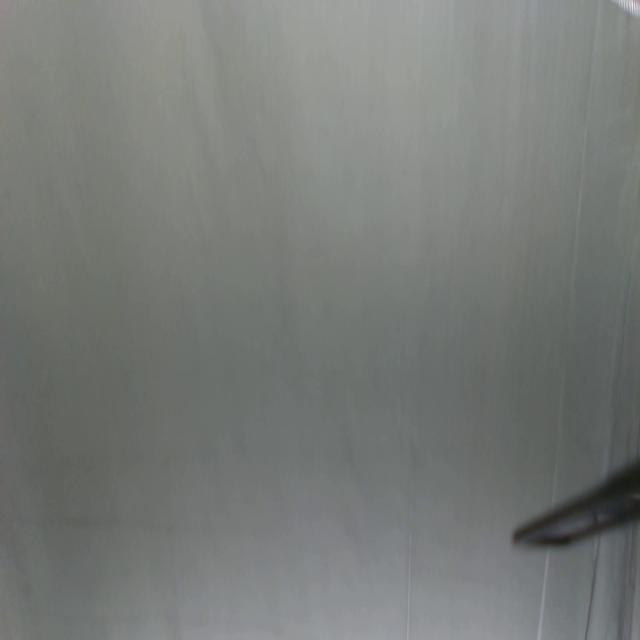crease: (536, 0, 603, 639), (580, 263, 634, 640), (405, 525, 414, 640)
